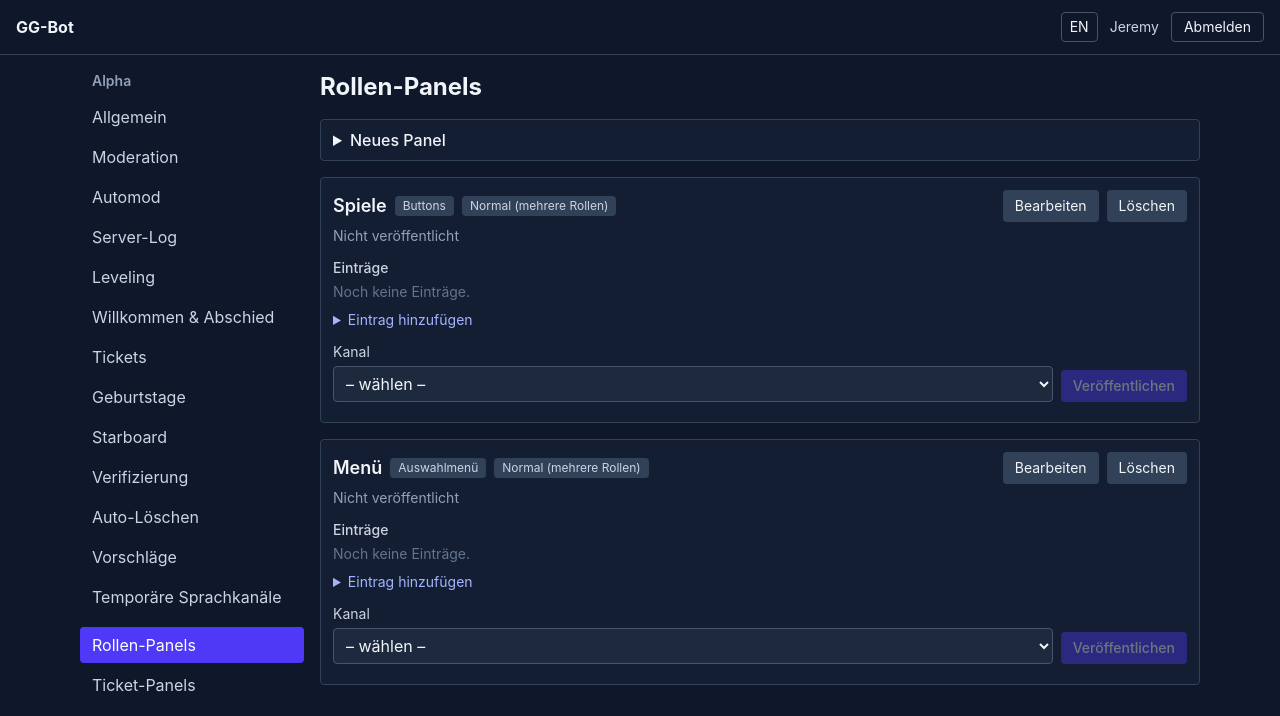
Test: Rollen-Panels › Kurzbeschreibung gibt es nur beim Auswahlmenü
Click the heading "Eintrag hinzufügen" below "Spiele". click: (410, 320)
box: [348,311,473,328]
(page scrolled)
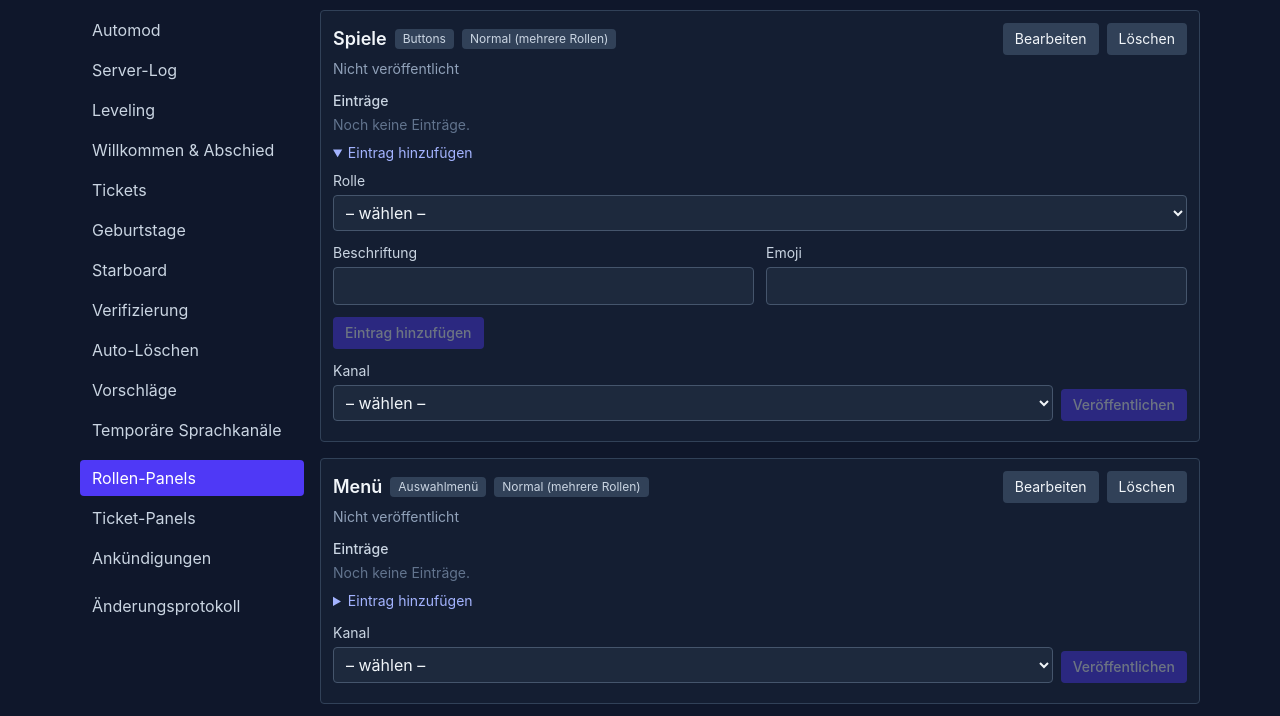
Click the heading "Eintrag hinzufügen" below "Auswahlmenü". click: (410, 600)
box: [348,592,473,609]
(page scrolled)
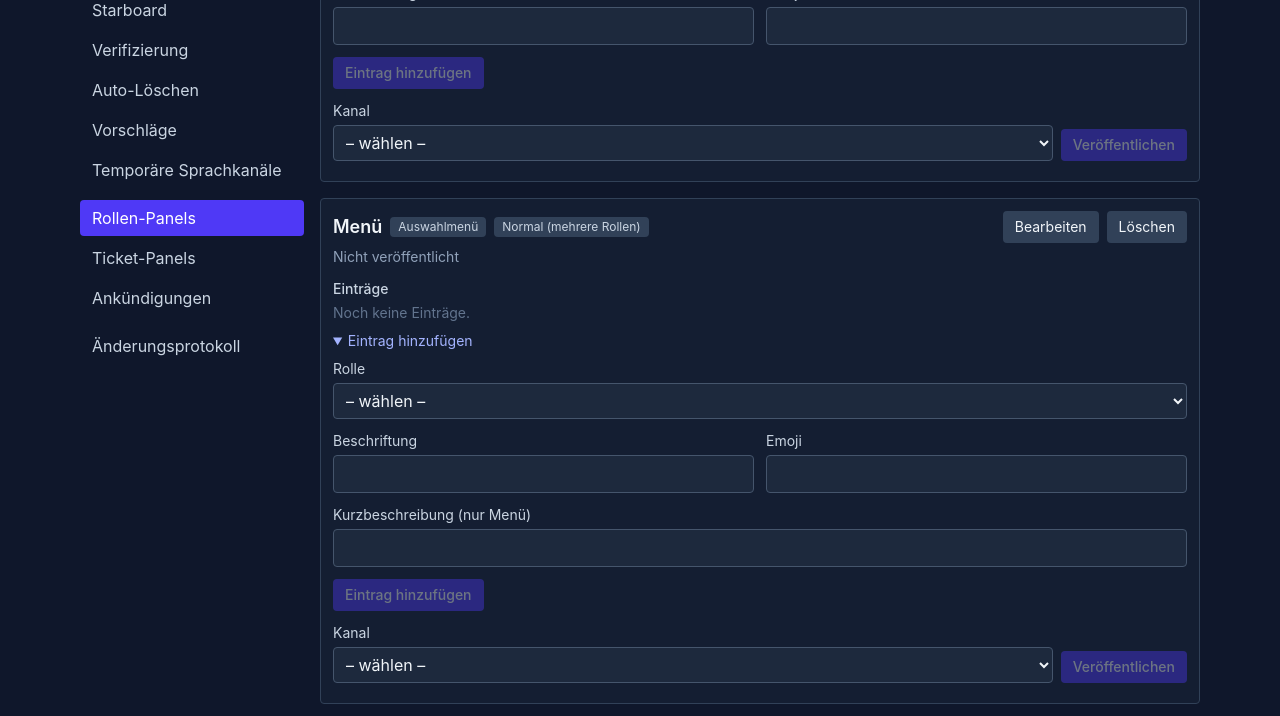
Now the field labelled "Kurzbeschreibung (nur Menü)" is shown, box [333,529,1187,567]
